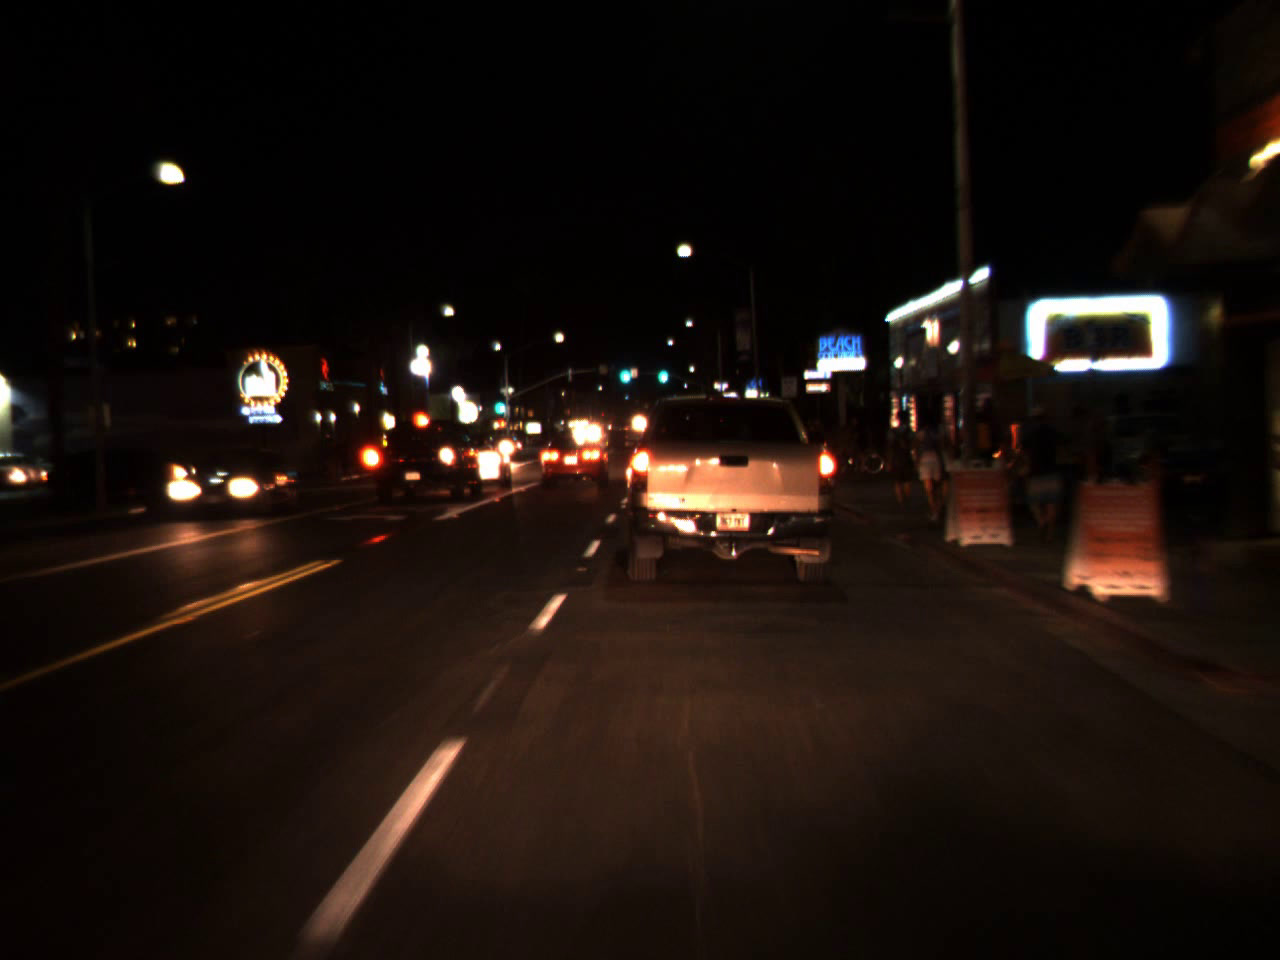go: (614, 354, 633, 387), (654, 358, 670, 385), (492, 388, 506, 418)
